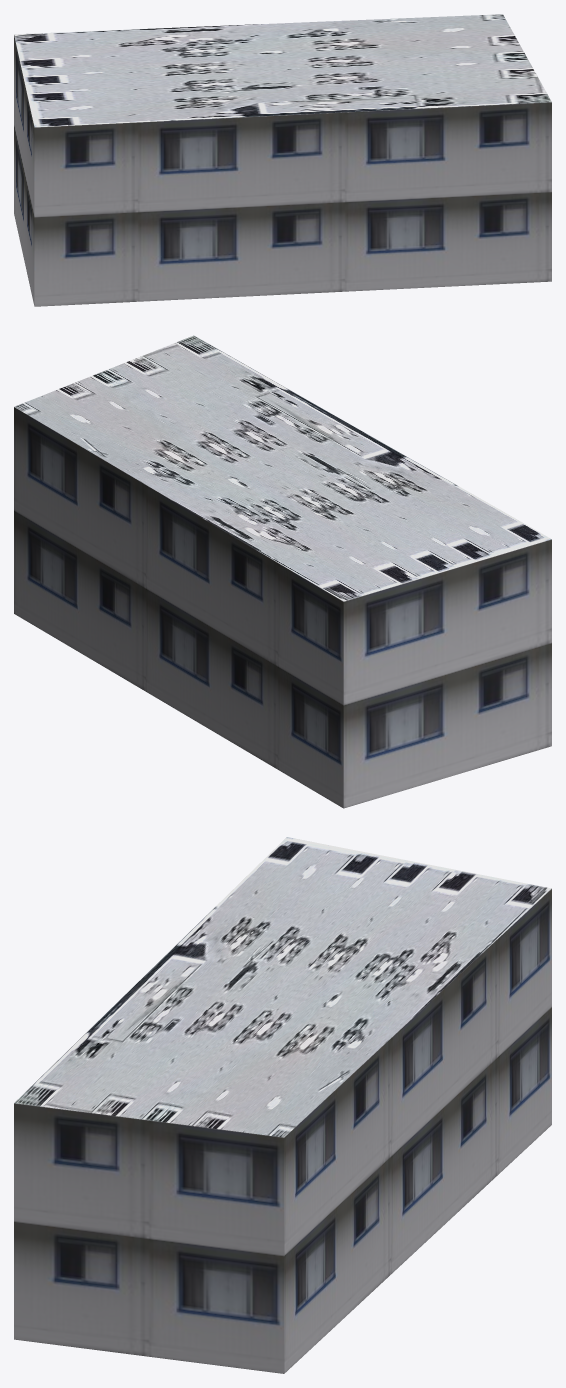
The model's file is ResTex__2563.fbx.
The picture shows the model from 3 angles, top to bottom: view 1: azimuth 30°, elevation 25°; view 2: azimuth 150°, elevation 25°; view 3: azimuth 270°, elevation 25°; orthographic projection. The views are drawn at different scales.
Visible parts, largest first — view 1: CityEngineMaterial_9_m, CityEngineMaterial_4_m; view 2: CityEngineMaterial_9_m, CityEngineMaterial_4_m; view 3: CityEngineMaterial_9_m, CityEngineMaterial_4_m.
Boxes of the visible parts, <box> form: CityEngineMaterial_9_m: <box>14,35,551,306</box>; CityEngineMaterial_4_m: <box>14,14,551,127</box>; CityEngineMaterial_9_m: <box>14,407,551,808</box>; CityEngineMaterial_4_m: <box>14,335,551,601</box>; CityEngineMaterial_9_m: <box>14,889,551,1373</box>; CityEngineMaterial_4_m: <box>14,837,551,1137</box>.
Bounding box in the file's own units: 16.37 × 6 × 12.38.
2 materials, 2 textured.
